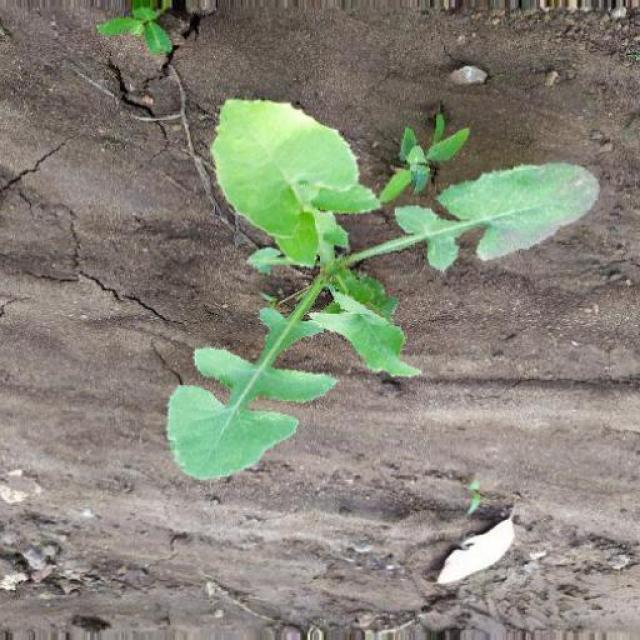crop: (164, 90, 605, 510)
